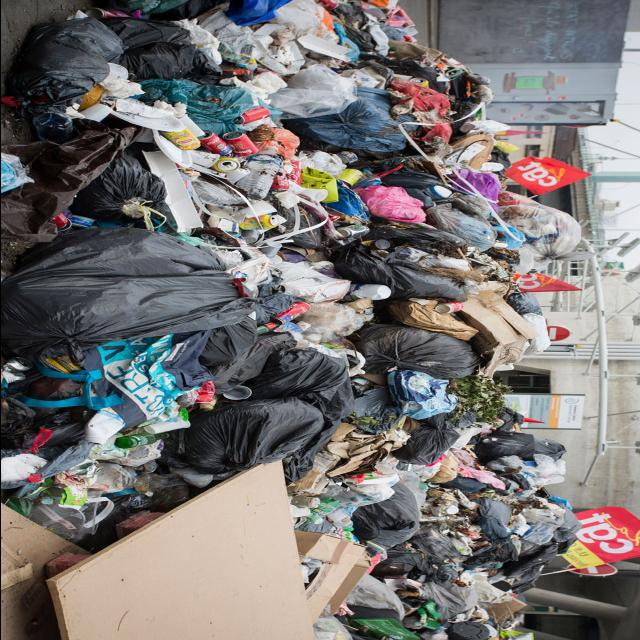garbage: (0, 2, 625, 640)
